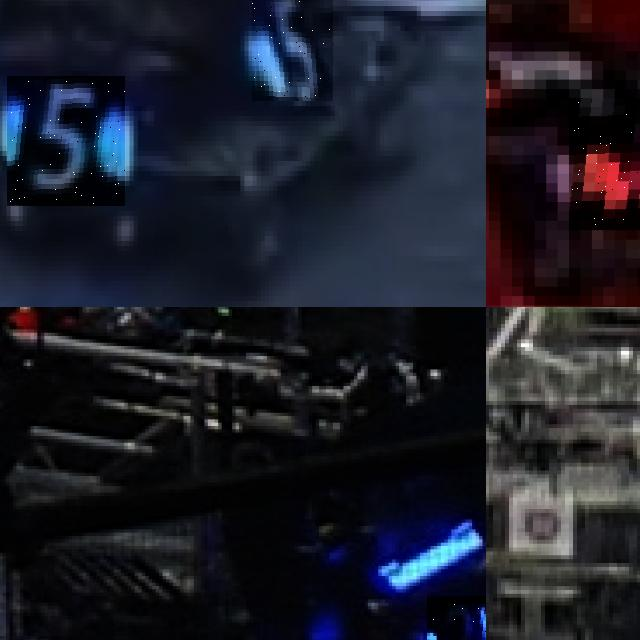B2: (427, 595, 486, 640)
B5: (7, 76, 125, 206), (252, 0, 334, 101)
R4: (569, 98, 640, 230)
